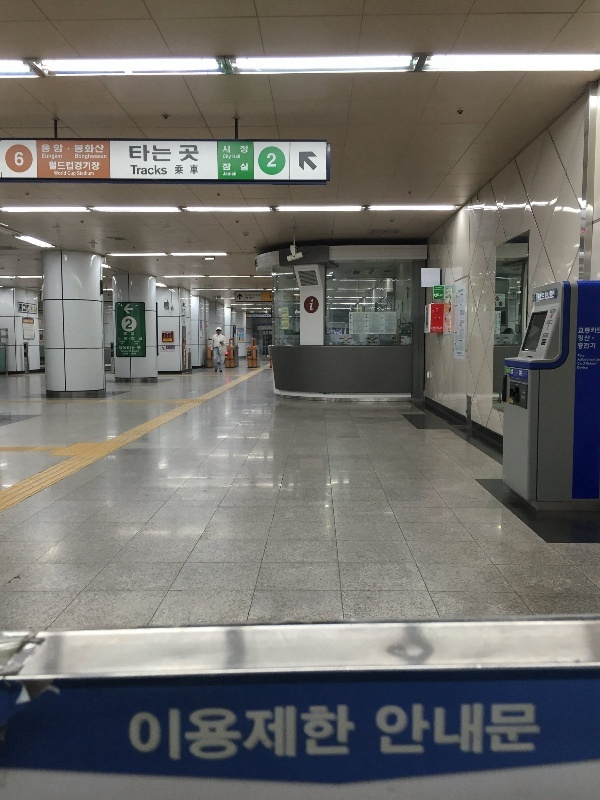text: (129, 698, 144, 773), (145, 698, 160, 773), (161, 698, 176, 773), (177, 698, 192, 773), (193, 698, 208, 773), (209, 698, 224, 773), (225, 698, 240, 773), (241, 698, 256, 773), (257, 698, 272, 773), (273, 698, 288, 773), (289, 698, 304, 773), (305, 698, 320, 773), (321, 698, 336, 773), (337, 698, 352, 773), (385, 700, 400, 766), (401, 700, 416, 766), (417, 700, 432, 766), (433, 700, 448, 766), (449, 700, 464, 766), (465, 700, 480, 766), (481, 700, 496, 766), (497, 700, 512, 766), (513, 700, 528, 766), (529, 700, 543, 766), (376, 700, 384, 766), (353, 698, 358, 773), (129, 144, 144, 163), (145, 144, 160, 163), (161, 144, 176, 163), (177, 144, 192, 163), (145, 164, 160, 176), (130, 164, 144, 176), (49, 161, 64, 171), (65, 161, 80, 171), (81, 161, 96, 171), (49, 144, 64, 154), (81, 144, 96, 154), (225, 163, 240, 172), (225, 145, 240, 154), (310, 299, 320, 312), (578, 342, 592, 351), (193, 144, 199, 163), (578, 335, 592, 343), (81, 153, 96, 160), (17, 152, 24, 167), (49, 153, 63, 160), (578, 327, 592, 334), (129, 336, 143, 342), (267, 153, 272, 169), (97, 144, 105, 154), (67, 171, 80, 177), (81, 171, 94, 177), (161, 164, 167, 176), (225, 171, 237, 177), (241, 145, 249, 154), (97, 153, 107, 160), (41, 144, 48, 154), (129, 346, 142, 351), (273, 153, 277, 169), (241, 163, 248, 172), (74, 144, 80, 154), (118, 336, 128, 342), (578, 366, 592, 370), (578, 362, 592, 366), (578, 358, 592, 362), (578, 354, 592, 358), (67, 147, 80, 151), (54, 171, 64, 176), (129, 318, 133, 330), (119, 346, 128, 351), (42, 153, 48, 160), (233, 154, 240, 160), (97, 161, 101, 171), (225, 154, 231, 160), (125, 318, 128, 330), (75, 153, 80, 160), (593, 358, 600, 362), (593, 327, 597, 334), (593, 342, 596, 351), (597, 327, 600, 334), (129, 332, 134, 336), (77, 171, 80, 177), (124, 332, 128, 336), (593, 362, 597, 366), (15, 152, 16, 167), (65, 171, 67, 176), (223, 163, 224, 172), (223, 145, 224, 154), (223, 171, 224, 177), (223, 154, 224, 160)
